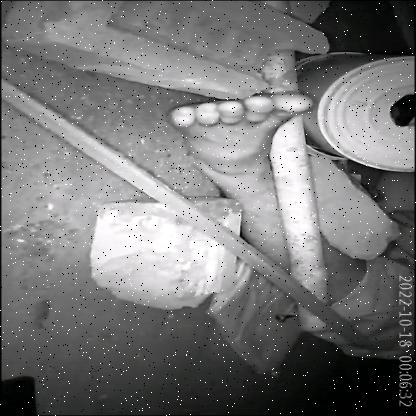leg: (140, 73, 402, 318)
